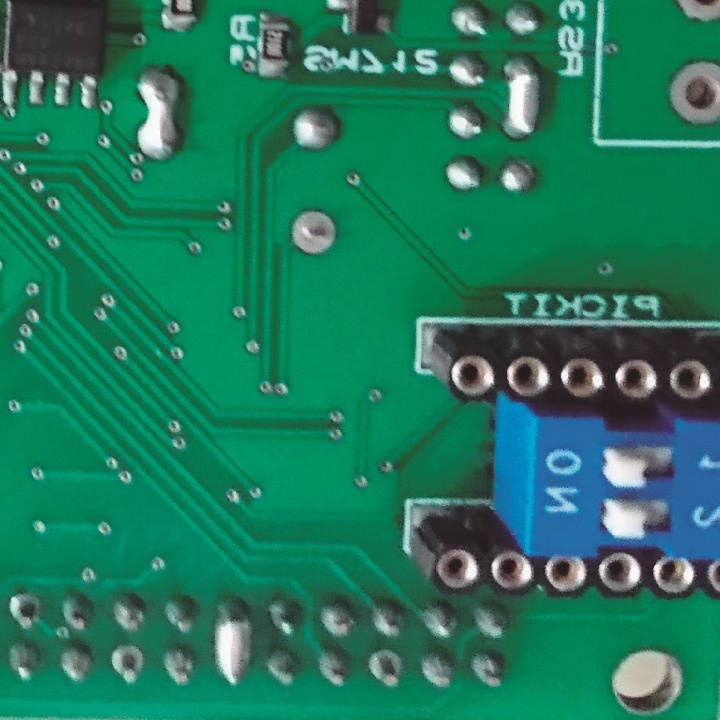F: (667, 57, 720, 131), (290, 209, 339, 260), (108, 642, 146, 686), (364, 647, 402, 689), (5, 589, 42, 632)
P: (136, 66, 186, 163), (213, 595, 257, 689), (502, 55, 546, 143)
